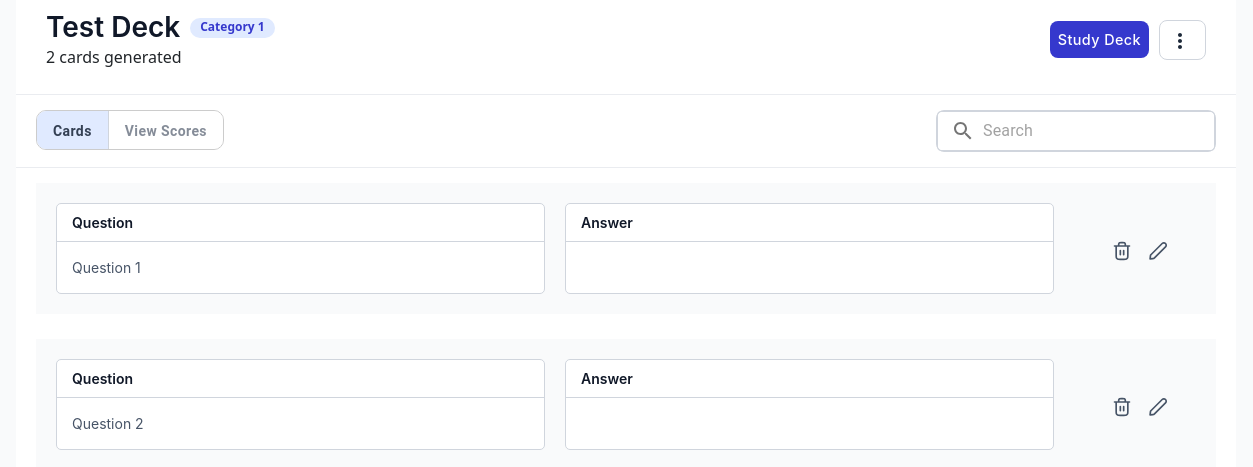
DeckDetail Component › searches flashcards
In the field with placeholder "Search": (1092, 131) [983,111,1201,151], type "Question 1"
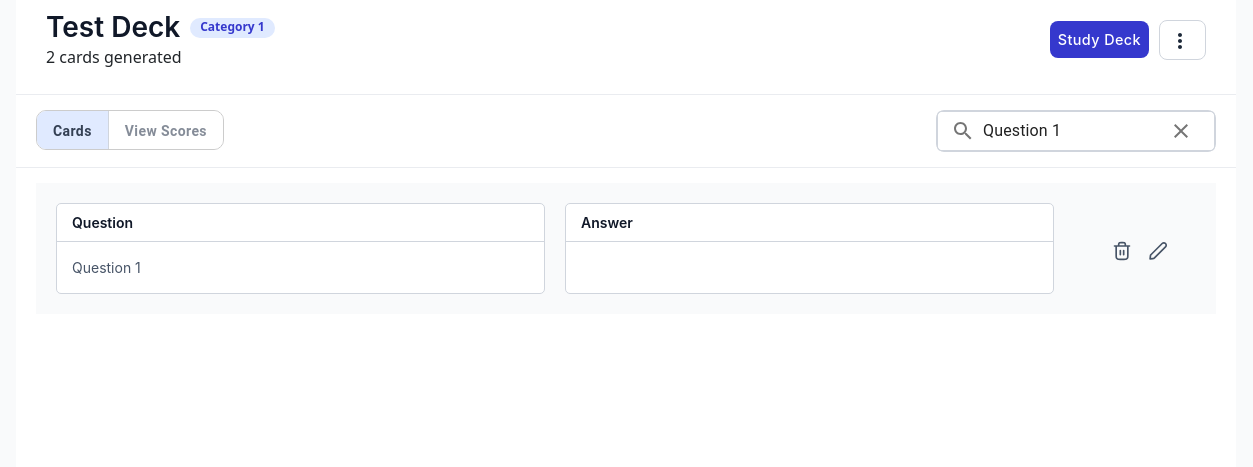
Expected: the text "Question 1" is shown, [72,259,141,276]
Result: the text "Question 2" is gone
